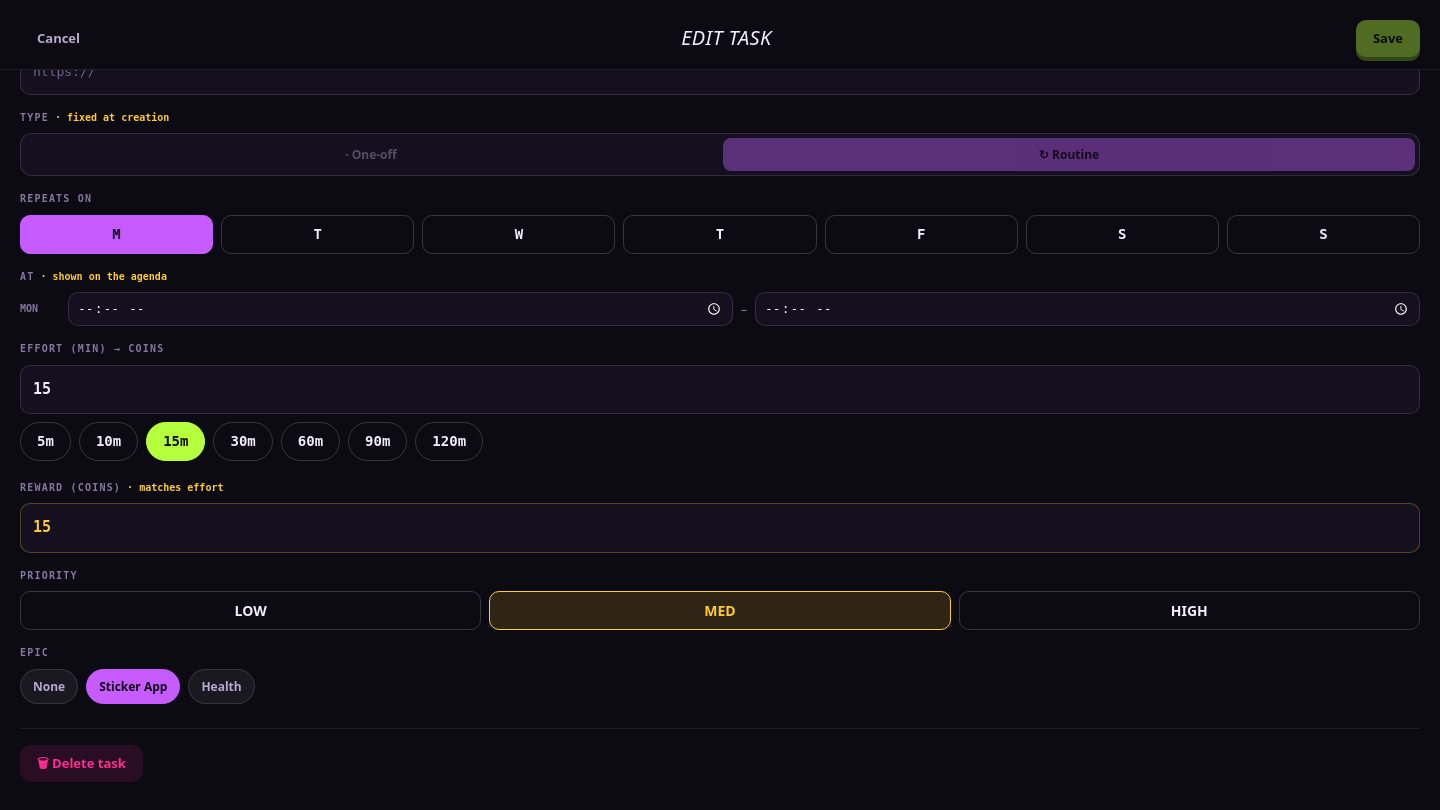
Test: editing — delete › asks before deleting
The width and height of the screenshot is (1440, 810).
(page scrolled)
Click the button "🗑 Delete task" at (81, 763), box x1=20 y1=745 x2=143 y2=782
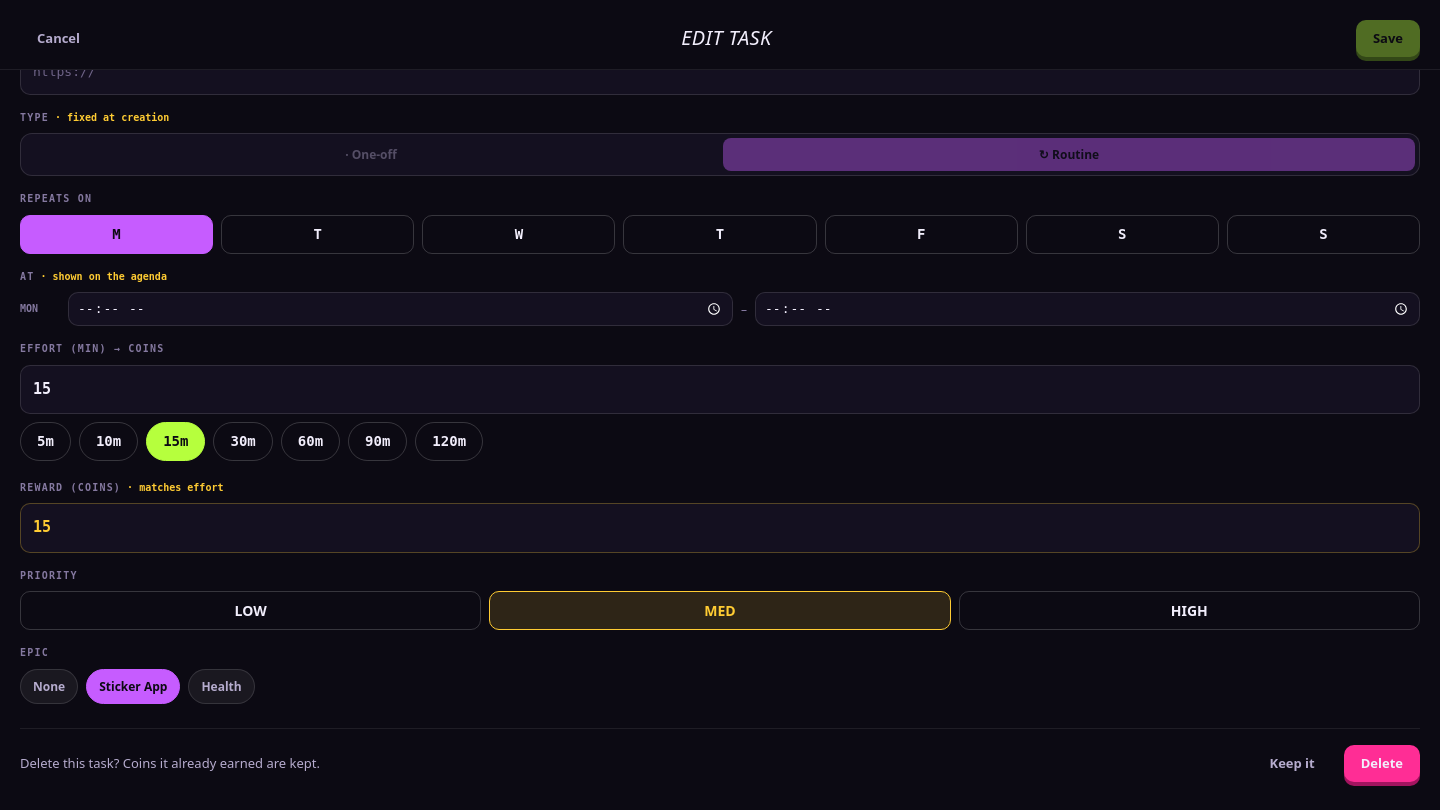
Expected: the text "Delete this task? Coins it already earned are kept." is shown, x1=20 y1=754 x2=320 y2=772
